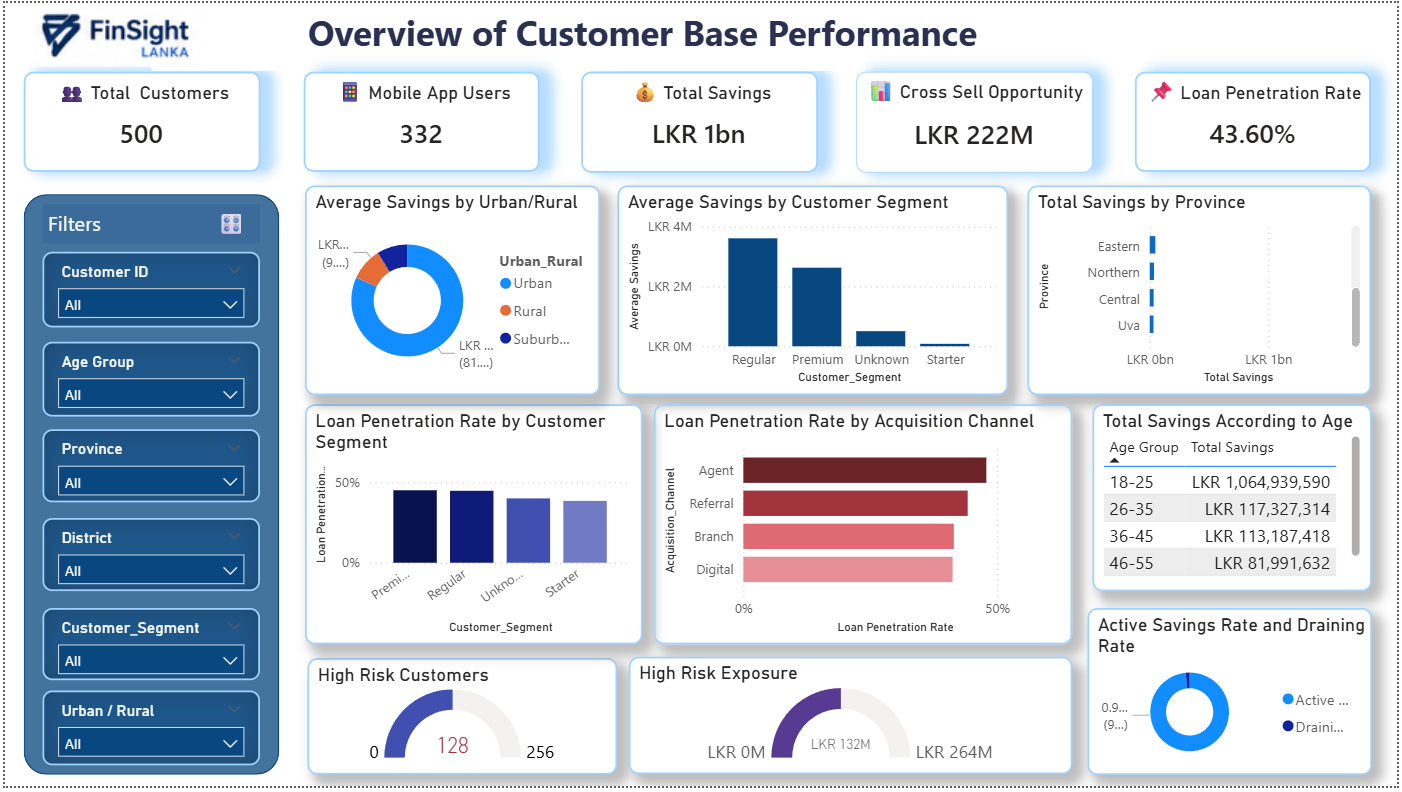

The page's visual inventory and layout, read from the dashboard file:
{"tool":"powerbi","page":{"name":"Page 1","canvas":[1280,720],"ordinal":0},"visuals":[{"type":"shape","box":[17.4,175.6,234.9,533.7],"z":0},{"type":"gauge","fields":{"Y":["Customer_Data.High Risk Customers"]},"box":[277.9,602.3,284.9,107],"z":1000},{"type":"cardVisual","title":"👥 Total  Customers","fields":{"Data":["Customer_Data.Total Customers"]},"box":[17.4,62.8,217.4,91.9],"z":2000},{"type":"cardVisual","title":"📌 Loan Penetration Rate","fields":{"Data":["Customer_Data.Loan Penetration Rate"]},"box":[1039.5,63.2,217.1,92.1],"z":3000},{"type":"cardVisual","title":"💰 Total Savings   ","fields":{"Data":["Customer_Data.Total Savings"]},"box":[530.2,62.8,217.4,93],"z":4000},{"type":"textbox","box":[134.9,0,903.5,62.8],"z":5000},{"type":"slicer","fields":{"Values":["Customer_Data.District"]},"box":[34.9,473.3,200,67.4],"z":6000},{"type":"slicer","fields":{"Values":["Customer_Data.Province"]},"box":[34.9,391.9,200,67.4],"z":7000},{"type":"slicer","fields":{"Values":["Customer_Data.Customer_Segment"]},"box":[34.9,555.8,200,66.3],"z":8000},{"type":"slicer","fields":{"Values":["Customer_Data.Age Group"]},"box":[34.9,311.6,200,68.6],"z":9000},{"type":"slicer","fields":{"Values":["Customer_Data.Urban_Rural"]},"box":[34.9,632.6,200,68.6],"z":10000},{"type":"slicer","fields":{"Values":["Customer_Data.Customer_ID"]},"box":[34.9,229.1,200,69.8],"z":11000},{"type":"cardVisual","title":"📱 Mobile App Users ","fields":{"Data":["Customer_Data.Mobile App Users"]},"box":[275,63.2,217.1,92.1],"z":12000},{"type":"cardVisual","title":"📊 Cross Sell Opportunity ","fields":{"Data":["Customer_Data.Cross Sell Savings"]},"box":[782.6,62.8,217.4,93],"z":13000},{"type":"columnChart","title":"Average Savings by Customer Segment","fields":{"Category":["Customer_Data.Customer_Segment"],"Y":["Customer_Data.Average Savings"]},"box":[562.8,167.4,359.3,193],"z":14000},{"type":"barChart","fields":{"Category":["Customer_Data.Province"],"Y":["Customer_Data.Total Savings"]},"box":[940.7,167.4,316.3,193],"z":15000},{"type":"columnChart","title":"Loan Penetration Rate by Customer Segment","fields":{"Y":["Customer_Data.Loan Penetration Rate"],"Category":["Customer_Data.Customer_Segment"]},"box":[275.6,368.6,310.5,220.9],"z":16000},{"type":"donutChart","title":"Average Savings by Urban/Rural","fields":{"Y":["Customer_Data.Average Savings"],"Category":["Customer_Data.Urban_Rural"]},"box":[275.6,167.4,270.9,193],"z":17000},{"type":"barChart","title":"Loan Penetration Rate by Acquisition Channel","fields":{"Y":["Customer_Data.Loan Penetration Rate"],"Category":["Customer_Data.Acquisition_Channel"]},"box":[596.5,368.6,362.8,220.9],"z":18000},{"type":"gauge","title":"High Risk Exposure","fields":{"Y":["Customer_Data.High Risk Exposure"]},"box":[573.3,601.2,386,108.1],"z":19000},{"type":"textbox","box":[34.9,184.9,200,36],"z":20000},{"type":"tableEx","title":"Total Savings According to Age","fields":{"Values":["Customer_Data.Age Group","Customer_Data.Total Savings"]},"box":[969.8,368.6,287.2,172.1],"z":22000},{"type":"donutChart","fields":{"Y":["Customer_Data.Active Savings Rate","Customer_Data.Draining Rate"]},"box":[969.8,555.8,287.2,153.5],"z":23000}]}

Visuals, with their boxes in screenshot pixels (x1, y1, x2, y2), scaled from the page's 1280x720 canvas onto the 1402x792 screenshot:
shape: [19, 193, 276, 780]
gauge - Customer_Data.High Risk Customers: [304, 663, 616, 780]
"👥 Total  Customers" cardVisual: [19, 69, 257, 170]
"📌 Loan Penetration Rate" cardVisual: [1139, 70, 1376, 171]
"💰 Total Savings   " cardVisual: [581, 69, 819, 171]
textbox: [148, 0, 1137, 69]
slicer - Customer_Data.District: [38, 521, 257, 595]
slicer - Customer_Data.Province: [38, 431, 257, 505]
slicer - Customer_Data.Customer_Segment: [38, 611, 257, 684]
slicer - Customer_Data.Age Group: [38, 343, 257, 418]
slicer - Customer_Data.Urban_Rural: [38, 696, 257, 771]
slicer - Customer_Data.Customer_ID: [38, 252, 257, 329]
"📱 Mobile App Users " cardVisual: [301, 70, 539, 171]
"📊 Cross Sell Opportunity " cardVisual: [857, 69, 1095, 171]
"Average Savings by Customer Segment" columnChart: [616, 184, 1010, 396]
barChart - Customer_Data.Province x Customer_Data.Total Savings: [1030, 184, 1377, 396]
"Loan Penetration Rate by Customer Segment" columnChart: [302, 405, 642, 648]
"Average Savings by Urban/Rural" donutChart: [302, 184, 599, 396]
"Loan Penetration Rate by Acquisition Channel" barChart: [653, 405, 1051, 648]
"High Risk Exposure" gauge: [628, 661, 1051, 780]
textbox: [38, 203, 257, 243]
"Total Savings According to Age" tableEx: [1062, 405, 1377, 595]
donutChart - Customer_Data.Active Savings Rate x Customer_Data.Draining Rate: [1062, 611, 1377, 780]
